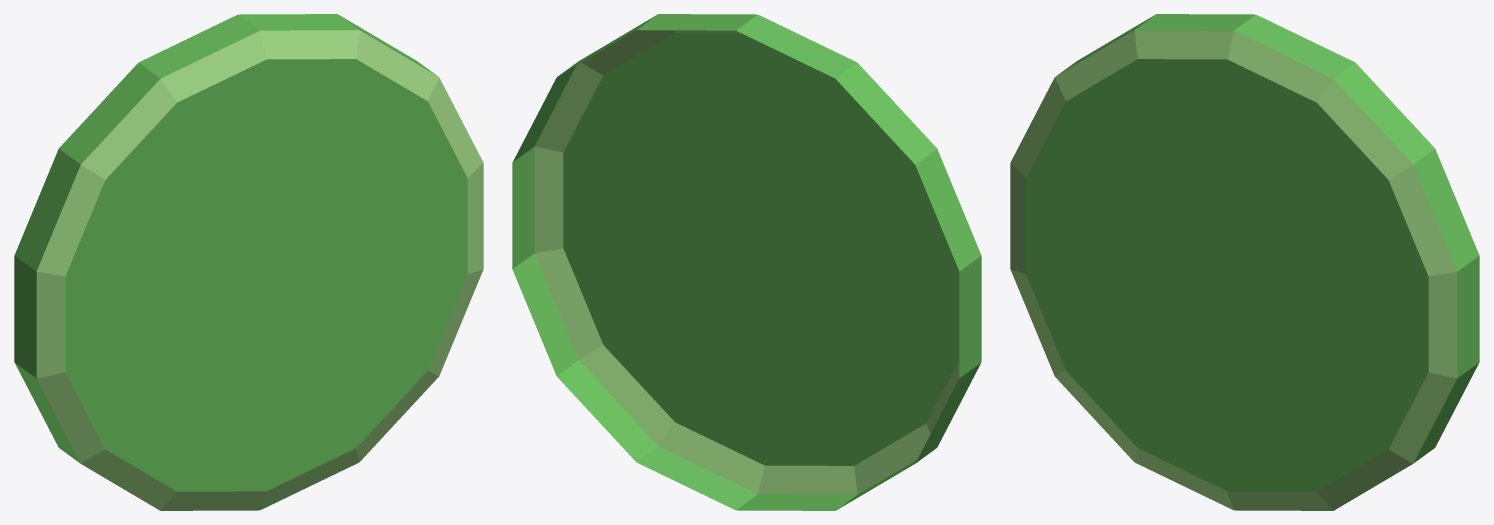
File: gun_platform.glb
The picture shows the model from 3 angles, left to right: view 1: azimuth 30°, elevation 25°; view 2: azimuth 150°, elevation 25°; view 3: azimuth 330°, elevation 25°; orthographic projection.
Parts seen in each view (by area): view 1: Circle; view 2: Circle; view 3: Circle.
Part boxes in pixels (<box>): Circle: <box>14,14,483,510</box>; Circle: <box>512,14,981,510</box>; Circle: <box>1010,14,1479,510</box>.
Size of the model in its own units: 2.34 by 2.4 by 0.26.
1 material, 1 textured.
